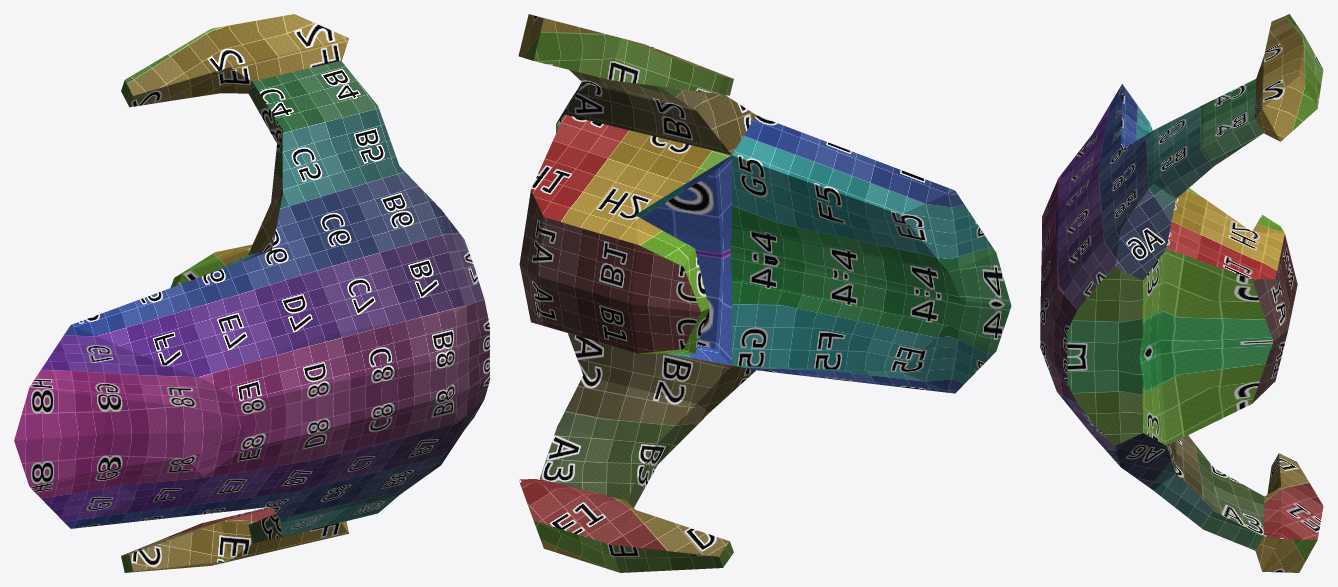
File: ship2.glb
The picture shows the model from 3 angles, left to right: view 1: azimuth 30°, elevation 25°; view 2: azimuth 150°, elevation 25°; view 3: azimuth 270°, elevation 25°; orthographic projection. The views are drawn at different scales.
Parts seen in each view (by area): view 1: clawship.001; view 2: clawship.001; view 3: clawship.001.
Boxes of the visible parts, x1,y1,x2,y2 form: clawship.001: [14, 14, 489, 572]; clawship.001: [518, 14, 1011, 572]; clawship.001: [1040, 14, 1323, 572].
Bounding box in the file's own units: 5.85 × 6.73 × 3.44.
Materials: 1 (1 with a texture image).
